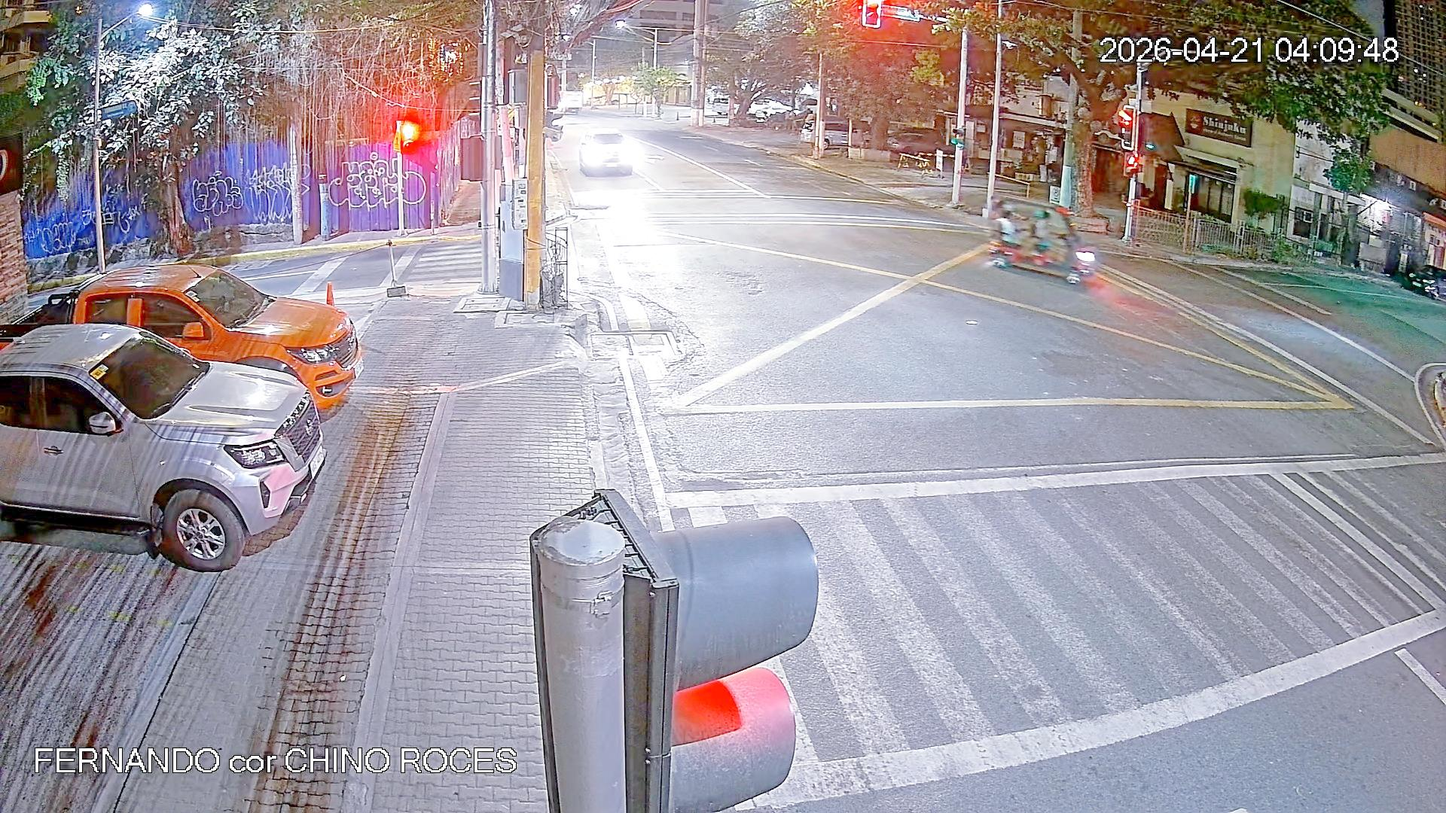Car: (5, 327, 357, 626), (2, 241, 411, 412), (571, 127, 646, 199)
